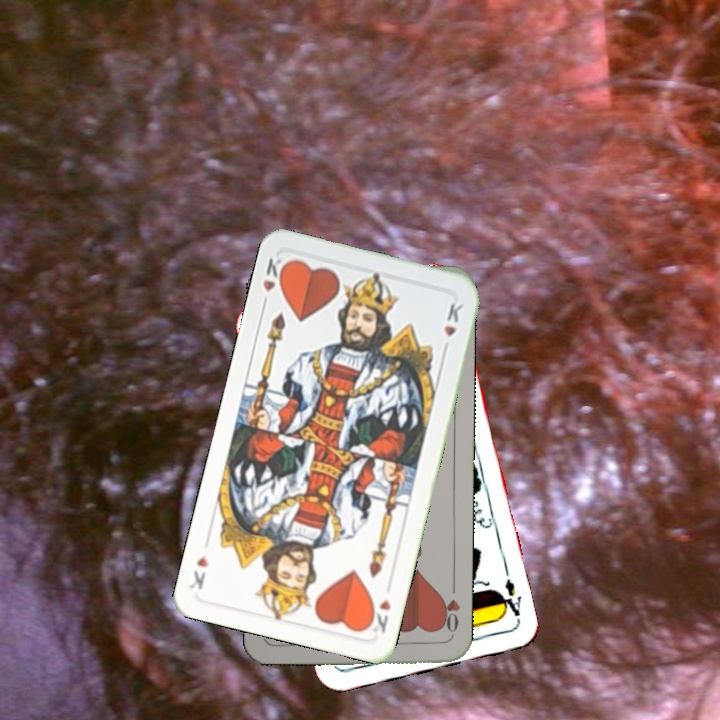EA: (494, 574, 524, 624)
HK: (258, 252, 291, 310), (363, 595, 394, 636)
HO: (437, 581, 463, 640)
